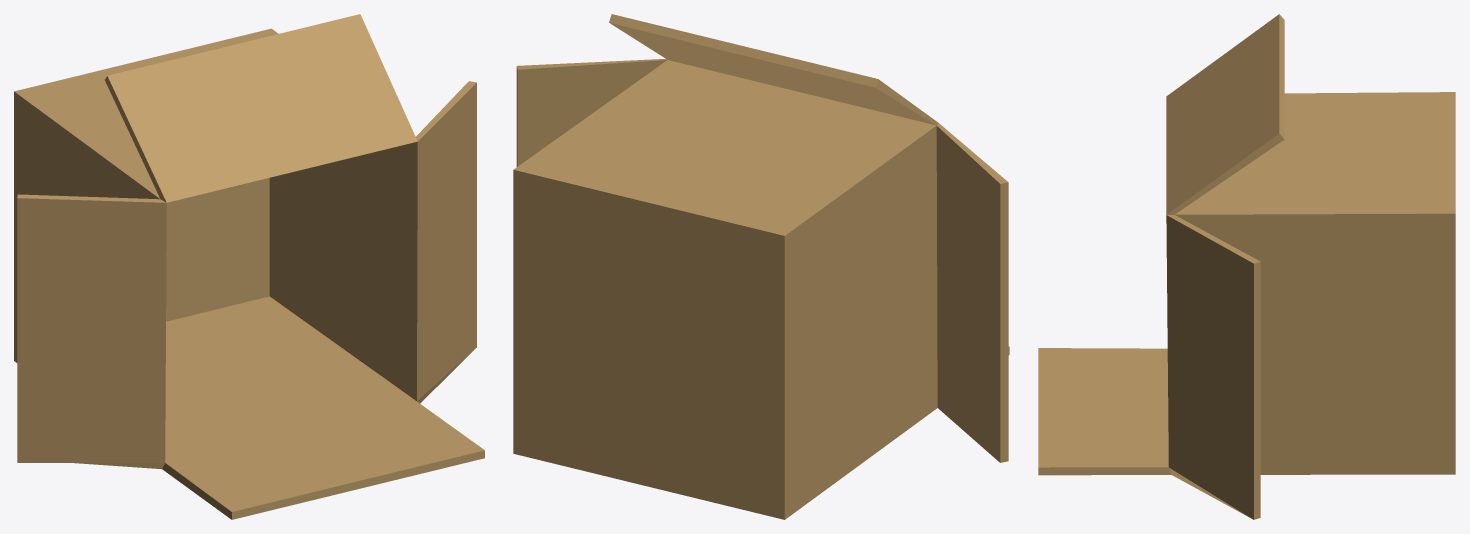
Rendered from Box_2_plain.fbx.
The picture shows the model from 3 angles, left to right: view 1: azimuth 30°, elevation 25°; view 2: azimuth 150°, elevation 25°; view 3: azimuth 270°, elevation 25°; orthographic projection. The views are drawn at different scales.
Parts seen in each view (by area): view 1: Box_2; view 2: Box_2; view 3: Box_2.
Part boxes in pixels (bbox=[...]): Box_2: bbox=[14, 14, 484, 519]; Box_2: bbox=[513, 14, 1009, 519]; Box_2: bbox=[1038, 14, 1455, 519].
Bounding box in the file's own units: 188 × 137 × 151.
